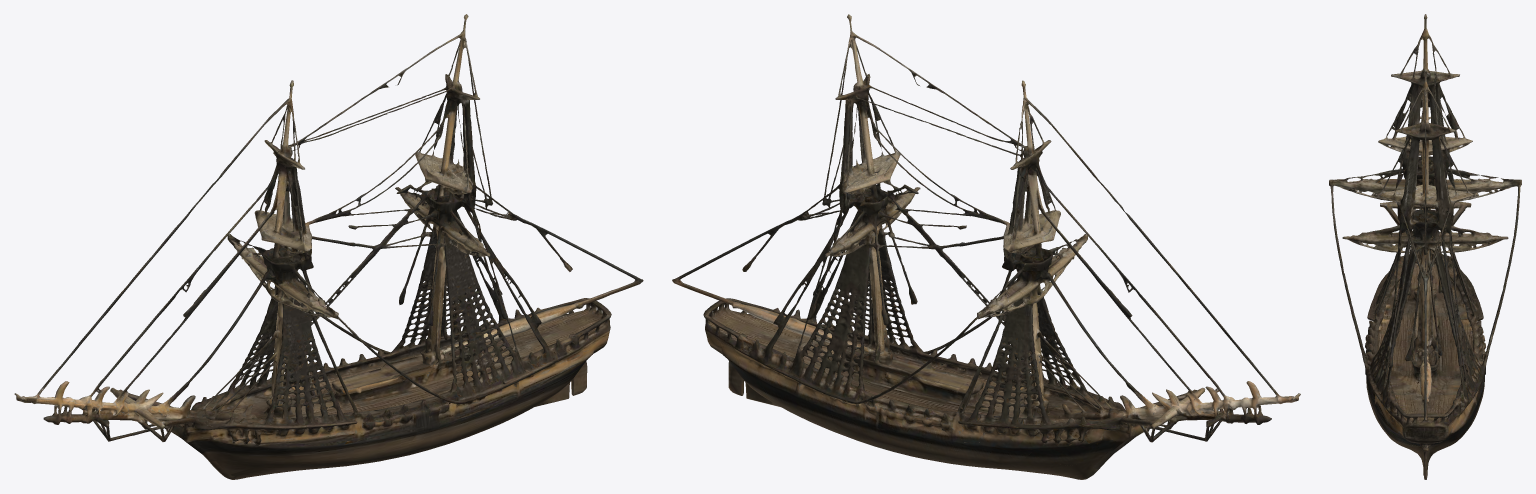
Rendered from ship-brig-hero.glb.
The picture shows the model from 3 angles, left to right: view 1: azimuth 30°, elevation 25°; view 2: azimuth 150°, elevation 25°; view 3: azimuth 270°, elevation 25°; orthographic projection. The views are drawn at different scales.
Visible parts, largest first — view 1: Mesh_0; view 2: Mesh_0; view 3: Mesh_0.
Part boxes in pixels (x1,y1,x2,y2): Mesh_0: [14, 14, 643, 479]; Mesh_0: [672, 14, 1300, 479]; Mesh_0: [1329, 14, 1521, 479].
Bounding box in the file's own units: 1.9 × 1.18 × 0.5692.
1 material, 1 textured.
